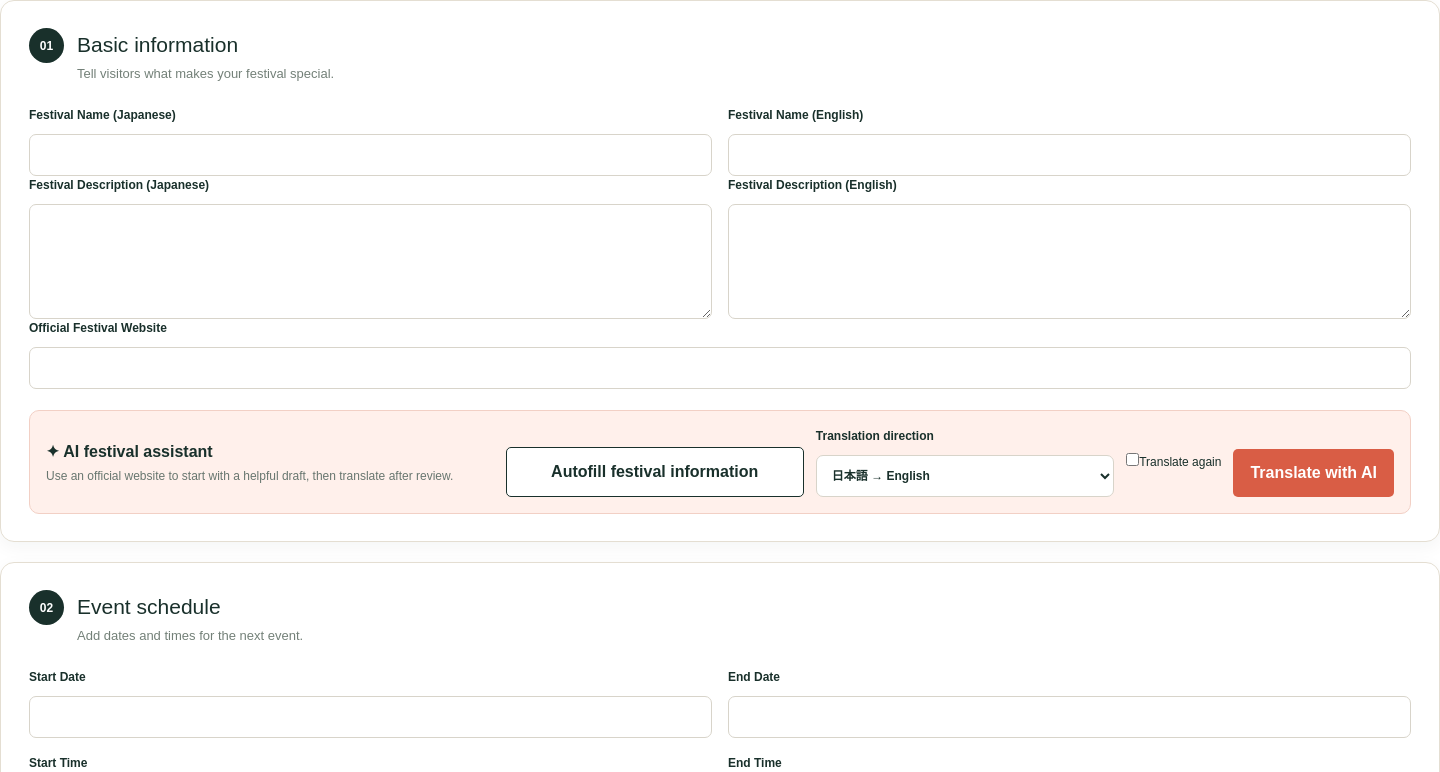
SubmissionForm Phase 2 › reflects only valid autofill activity values
The image size is (1440, 772).
Type "https://example.com" into the field labelled "Official Festival Website" at (720, 368), box [29,347,1411,389]
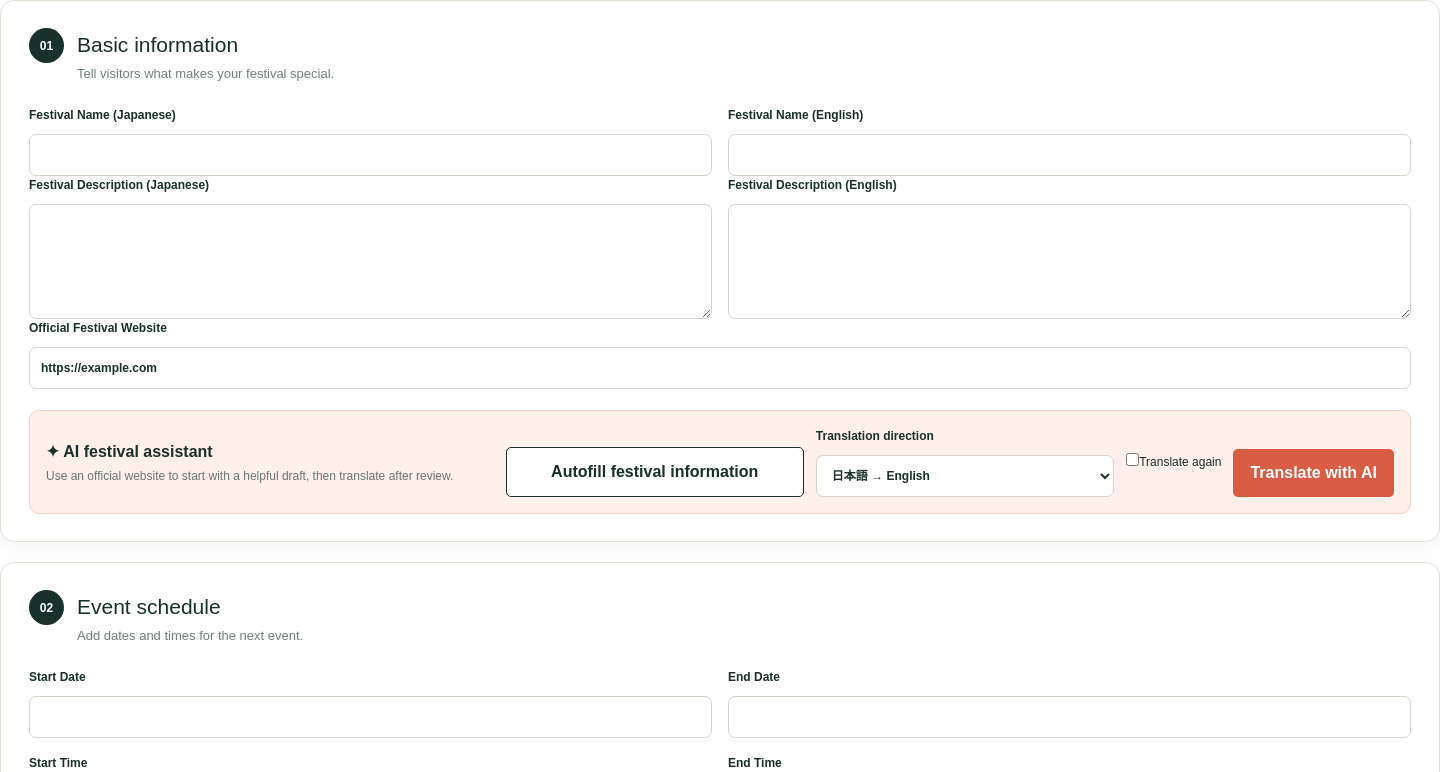
Click the button "Autofill festival information" at (655, 472), box [506,447,804,497]
(page scrolled)
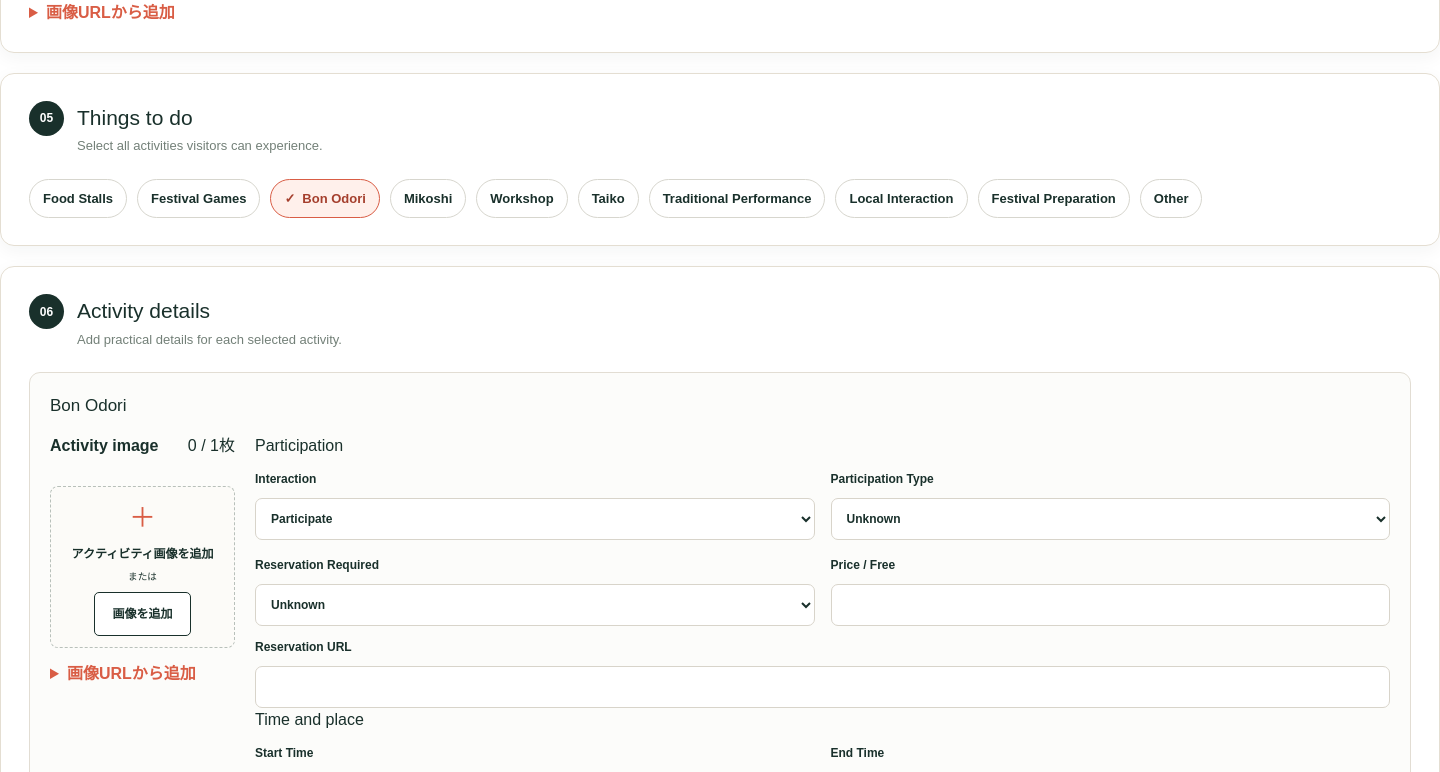
Expected: the heading "Bon Odori" is shown, [50,393,126,419]
